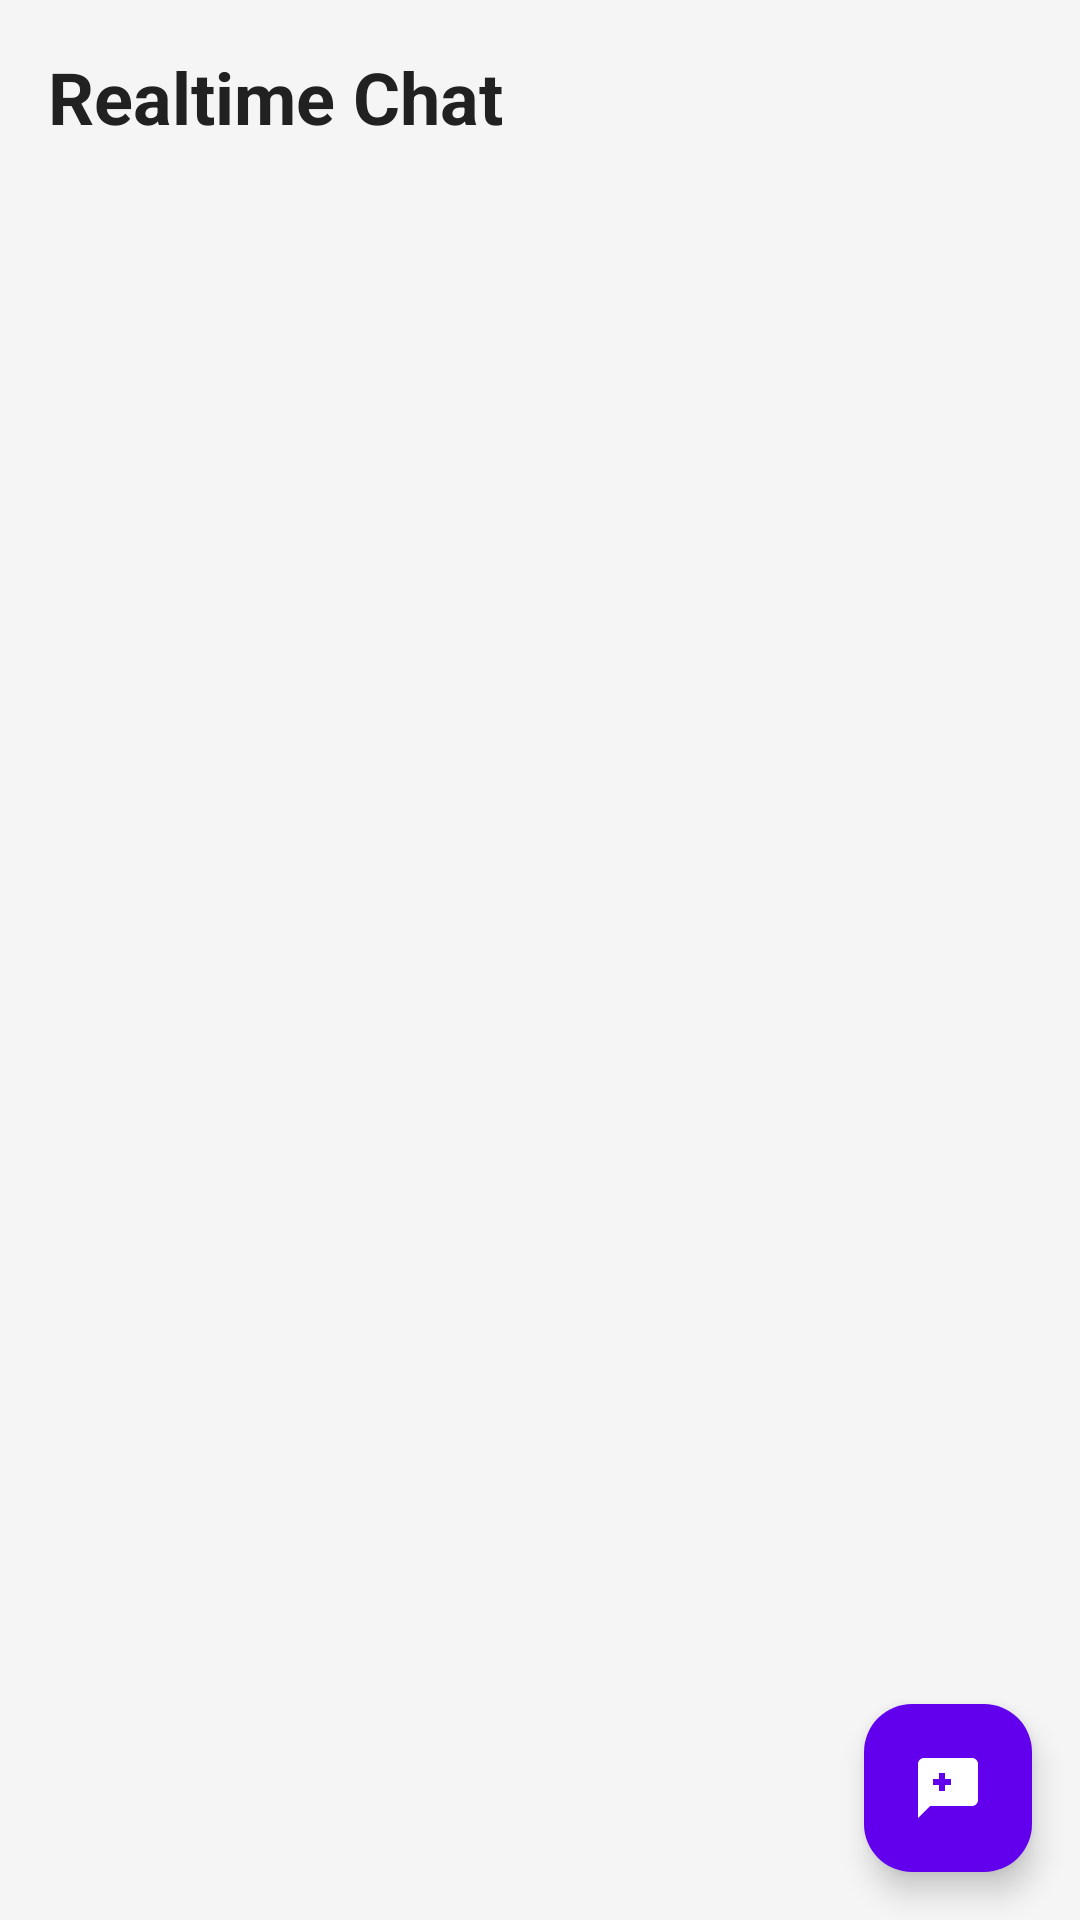

Icon bounding boxes for this 1080×1920 phone screenshot, format detection(x1, y1, x2, y2):
New Chat: detection(864, 1704, 1032, 1872)
